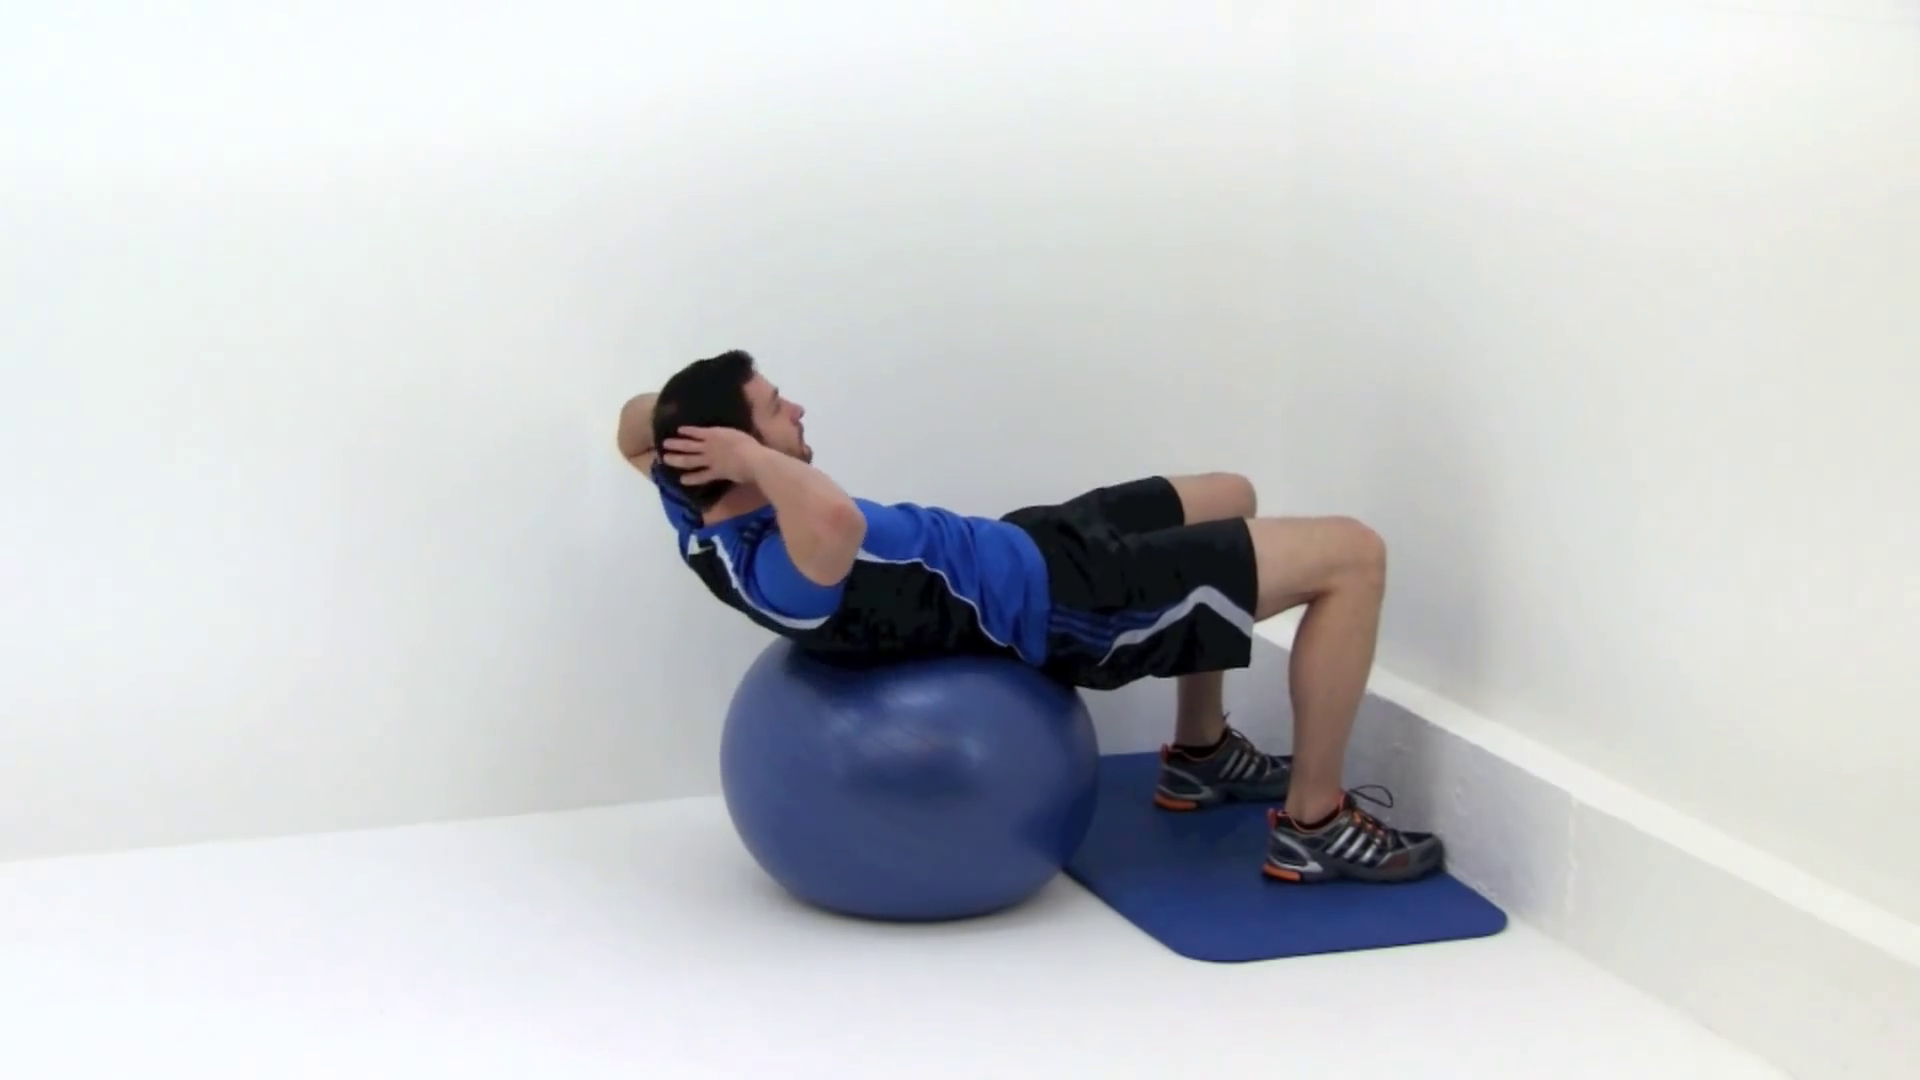yogaball: (700, 615, 1112, 938)
